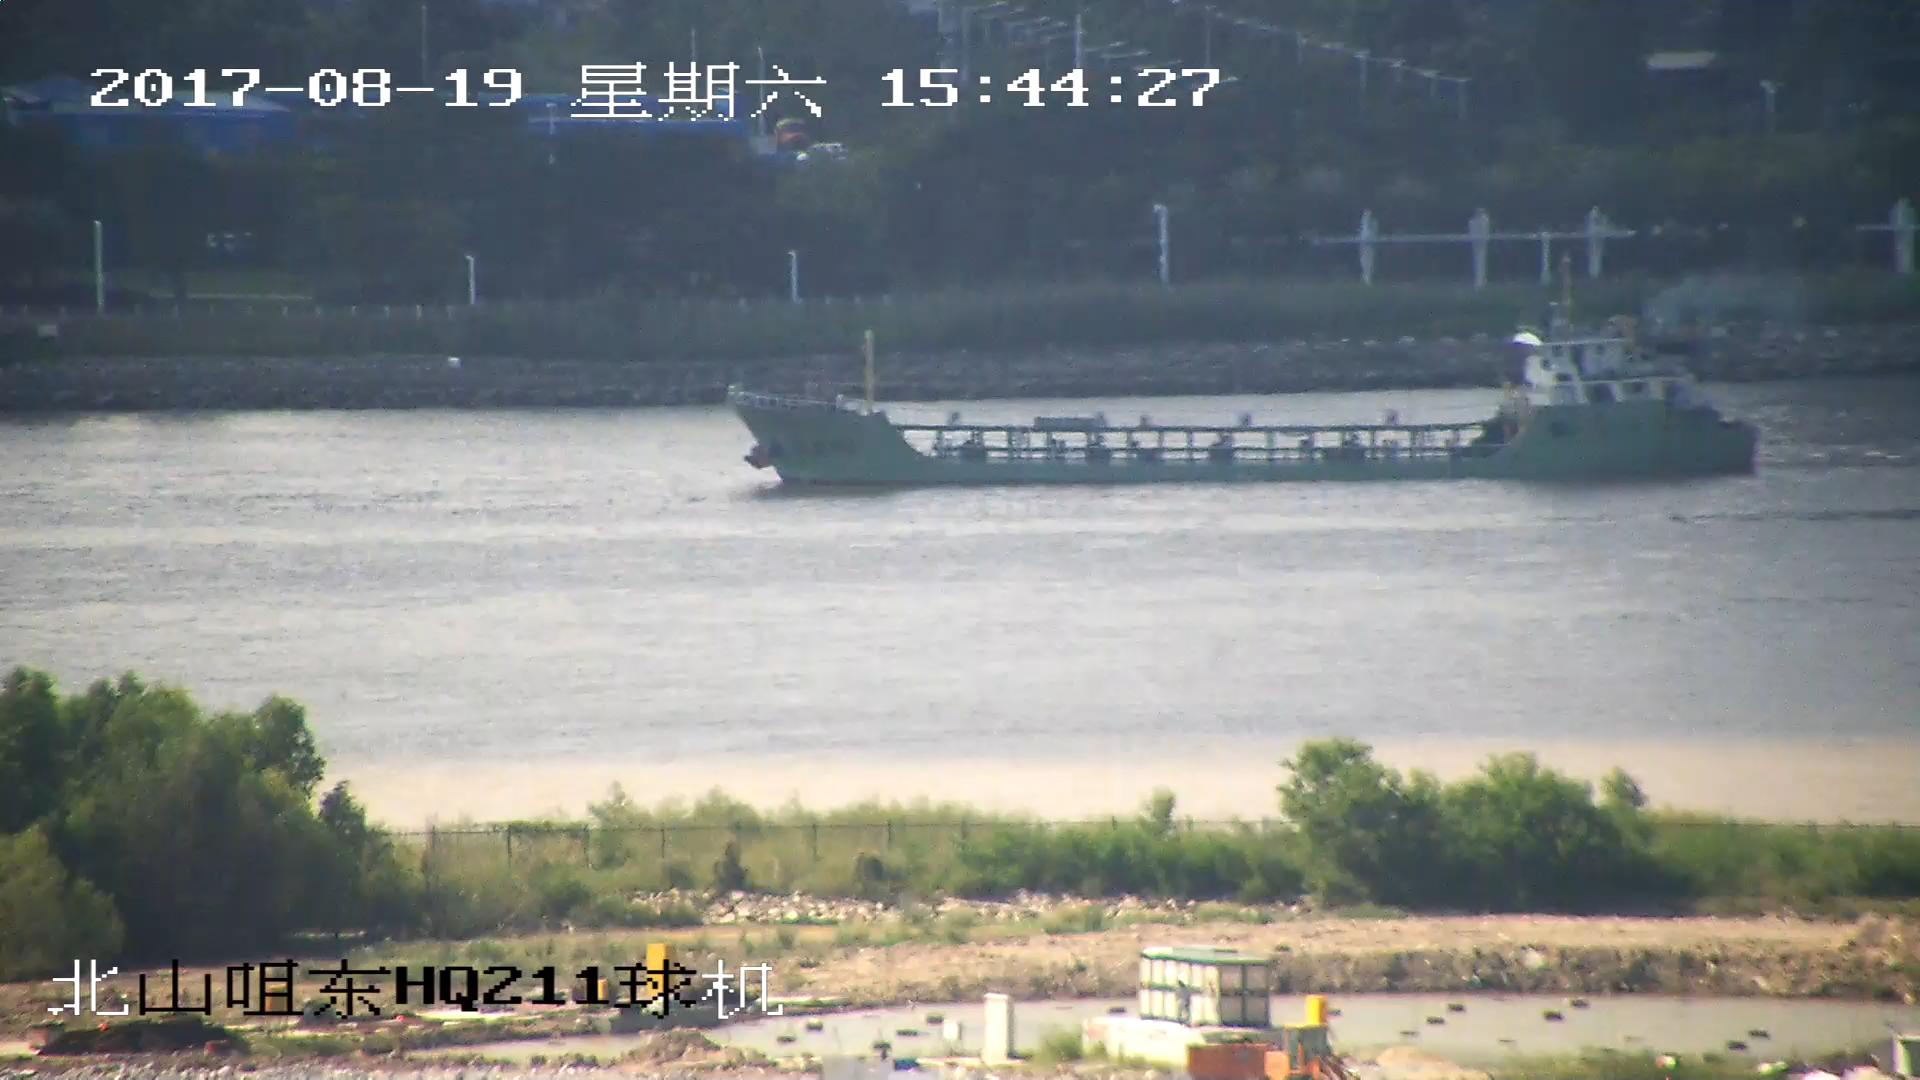general cargo ship: (727, 285, 1755, 485)
